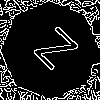Z: (25, 25, 80, 80)
